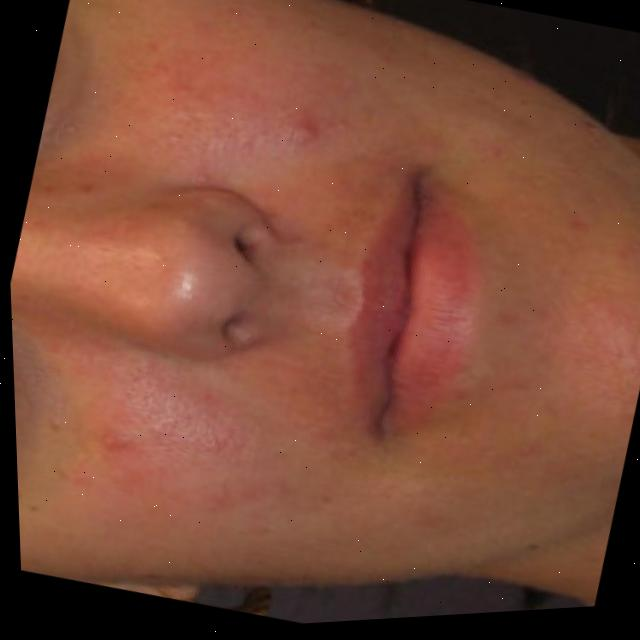Acne: (47, 326, 284, 546), (153, 0, 340, 207)
